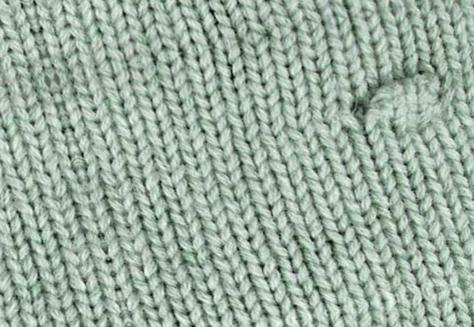knot: (358, 72, 453, 139)
